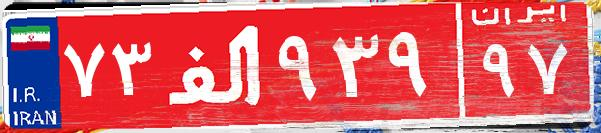3: (330, 28, 385, 110), (110, 28, 158, 105)
7: (57, 26, 110, 107), (525, 38, 570, 115)
9: (385, 28, 445, 110), (273, 28, 330, 110), (475, 38, 525, 113)
الف: (158, 15, 273, 115)
